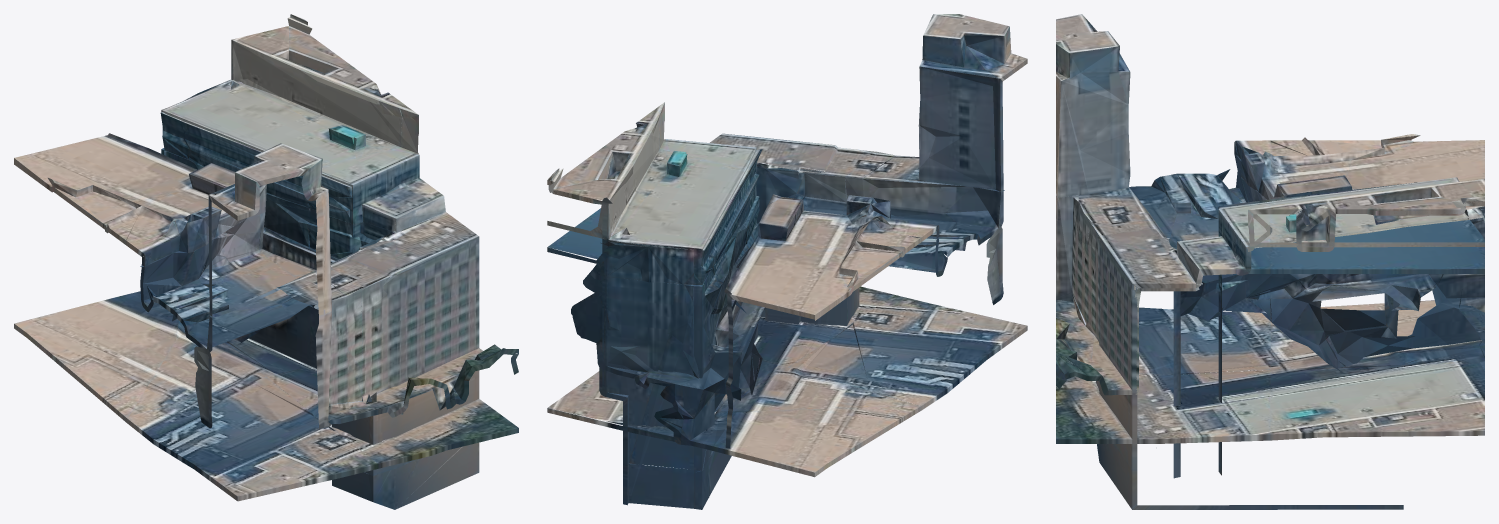
Rendered from chunk_-4_2.glb.
3 views of the same model, side by side, from view 1: azimuth 30°, elevation 25°; view 2: azimuth 150°, elevation 25°; view 3: azimuth 270°, elevation 25° (orthographic). The views are drawn at different scales.
Parts seen in each view (by area): view 1: hero-chunk; view 2: hero-chunk; view 3: hero-chunk.
Part boxes in pixels (x1,y1,x2,y2): hero-chunk: (14, 14, 518, 509); hero-chunk: (547, 14, 1027, 509); hero-chunk: (1056, 14, 1484, 509).
Bounding box in the file's own units: 56.04 × 72.6 × 76.32.
Materials: 3 (3 with a texture image).
